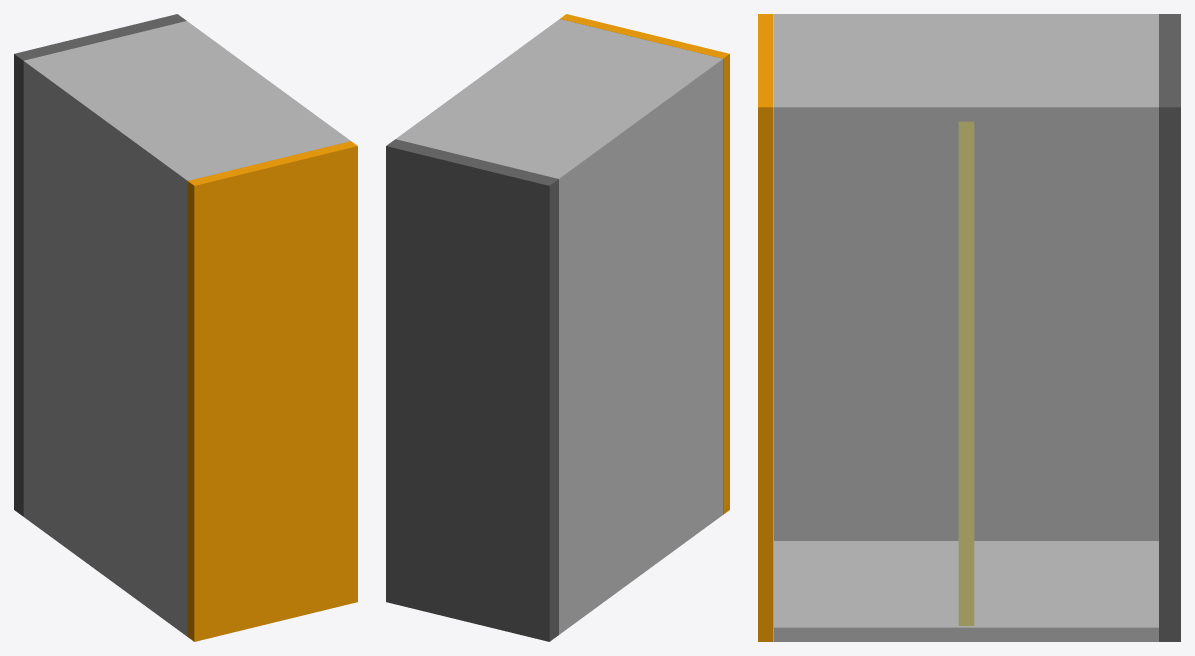
Rendered from nil_link_mesh.dae.
The picture shows the model from 3 angles, left to right: view 1: azimuth 30°, elevation 25°; view 2: azimuth 150°, elevation 25°; view 3: azimuth 270°, elevation 25°; orthographic projection. The views are drawn at different scales.
Visible parts, largest first — view 1: nil_link (×5); view 2: nil_link (×5); view 3: nil_link (×6).
Boxes of the visible parts, x1,y1,x2,y2 form: nil_link (×5): [14, 14, 357, 641]; nil_link (×5): [386, 14, 729, 641]; nil_link (×6): [758, 14, 1180, 641].
Bounding box in the file's own units: 0.45 × 1.2 × 0.8605.
